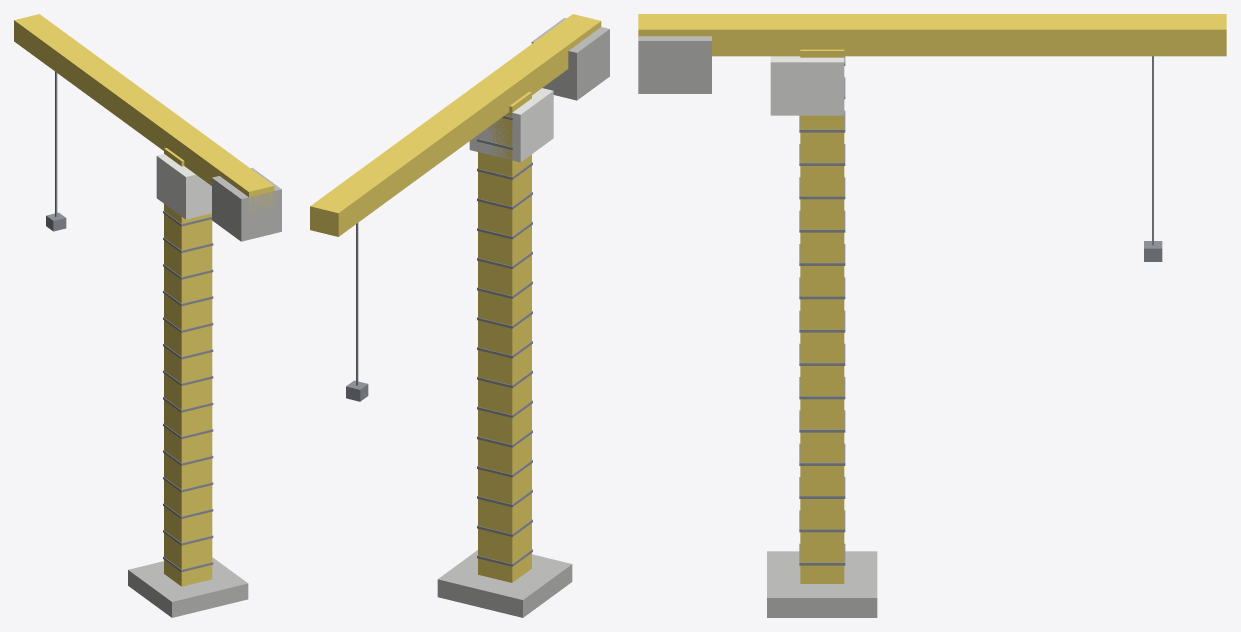
The model's file is crane.glb.
3 views of the same model, side by side, from view 1: azimuth 30°, elevation 25°; view 2: azimuth 150°, elevation 25°; view 3: azimuth 270°, elevation 25° (orthographic). The views are drawn at different scales.
Parts seen in each view (by area): view 1: crane; view 2: crane; view 3: crane.
Part boxes in pixels (x1,y1,x2,y2): crane: (14,14,281,617); crane: (310,14,609,617); crane: (638,14,1226,617).
Bounding box in the file's own units: 3 × 17.2 × 16.
